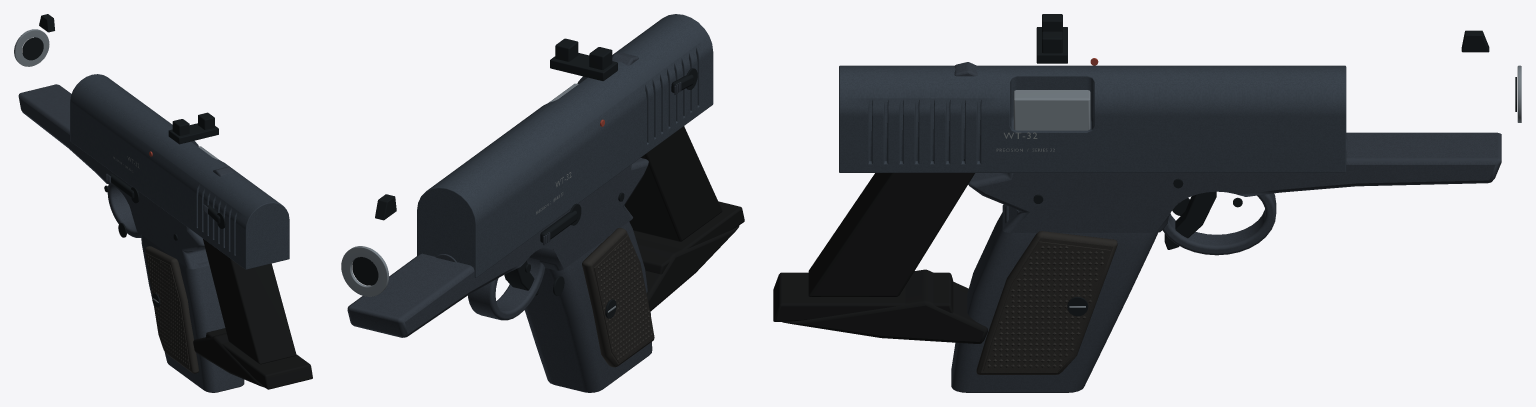
The model's file is weapon-72-DIM7QLLd.glb.
The picture shows the model from 3 angles, left to right: view 1: azimuth 30°, elevation 25°; view 2: azimuth 150°, elevation 25°; view 3: azimuth 270°, elevation 25°; orthographic projection. The views are drawn at different scales.
Visible parts, largest first — view 1: salient_weapon_bolt, salient_weapon_body, salient_weapon_magazine, salient_weapon_iron; view 2: salient_weapon_bolt, salient_weapon_body, salient_weapon_magazine, salient_weapon_iron; view 3: salient_weapon_bolt, salient_weapon_body, salient_weapon_magazine, salient_weapon_iron.
Boxes of the visible parts, x1,y1,x2,y2 form: salient_weapon_bolt: (70, 74, 289, 269); salient_weapon_body: (14, 29, 244, 392); salient_weapon_magazine: (193, 239, 312, 389); salient_weapon_iron: (39, 14, 218, 144); salient_weapon_bolt: (417, 14, 713, 277); salient_weapon_body: (341, 52, 654, 392); salient_weapon_magazine: (625, 126, 744, 311); salient_weapon_iron: (375, 38, 617, 220); salient_weapon_bolt: (839, 65, 1347, 172); salient_weapon_body: (951, 58, 1521, 392); salient_weapon_magazine: (773, 173, 987, 343); salient_weapon_iron: (1036, 14, 1489, 63).
Bounding box in the file's own units: 0.0283 × 0.1116 × 0.2139.
Materials: 13 (5 with a texture image).
